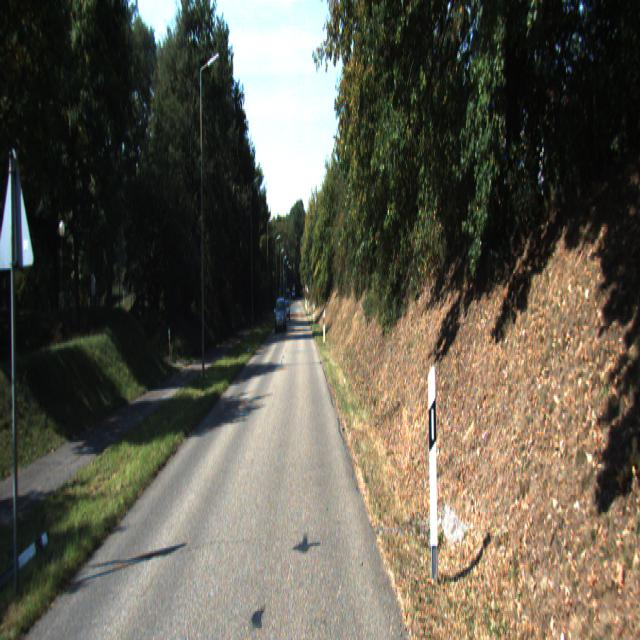Car: (274, 298, 286, 334)
